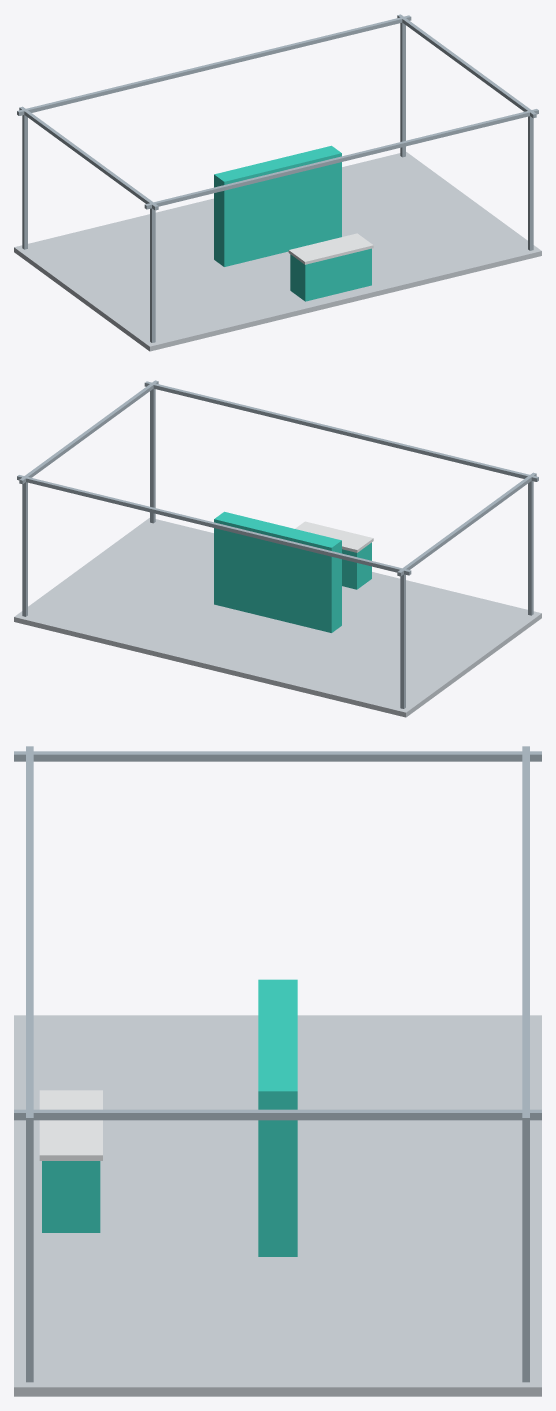
The picture shows the model from 3 angles, top to bottom: view 1: azimuth 30°, elevation 25°; view 2: azimuth 150°, elevation 25°; view 3: azimuth 270°, elevation 25°; orthographic projection. The views are drawn at different scales.
Parts seen in each view (by area): view 1: Exhibition Booth Concept; view 2: Exhibition Booth Concept; view 3: Exhibition Booth Concept.
Part boxes in pixels (x1,y1,x2,y2): Exhibition Booth Concept: [14, 14, 541, 351]; Exhibition Booth Concept: [14, 380, 541, 717]; Exhibition Booth Concept: [14, 746, 541, 1396].
Bounding box in the file's own units: 10 × 3.49 × 6.
